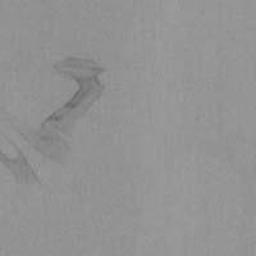Water spot: (0, 54, 108, 187)
